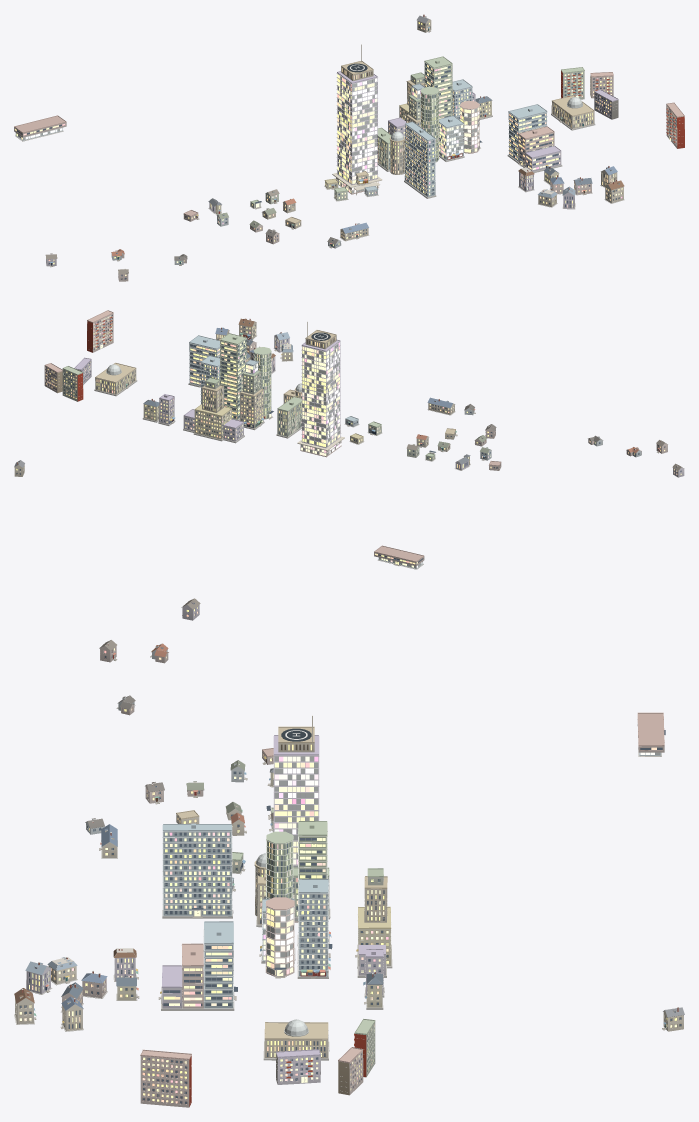
Rendered from city_c2.glb.
3 views of the same model, one above another, from view 1: azimuth 30°, elevation 25°; view 2: azimuth 150°, elevation 25°; view 3: azimuth 270°, elevation 25° (orthographic). The views are drawn at different scales.
Parts seen in each view (by area): view 1: city, hq; view 2: city, hq; view 3: city, hq.
Part boxes in pixels (x1=…): city: x1=14, y1=14, x2=684, y2=281; hq: x1=332, y1=44, x2=382, y2=195; city: x1=14, y1=310, x2=684, y2=569; hq: x1=297, y1=321, x2=344, y2=457; city: x1=14, y1=598, x2=684, y2=1107; hq: x1=273, y1=715, x2=319, y2=922.
Size of the model in its own units: 96.99 by 19.92 by 59.41.
